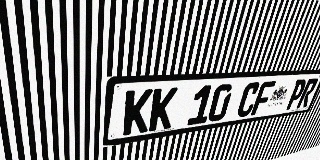0: (206, 84, 234, 122)
1: (187, 85, 216, 126)
C: (235, 82, 262, 118)
F: (250, 81, 276, 116)
K: (122, 89, 153, 136), (148, 87, 178, 132)
P: (284, 79, 308, 110)
R: (296, 78, 319, 108)
